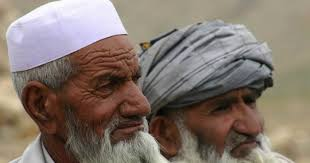middle_eastern_male: (74, 39, 152, 149)
